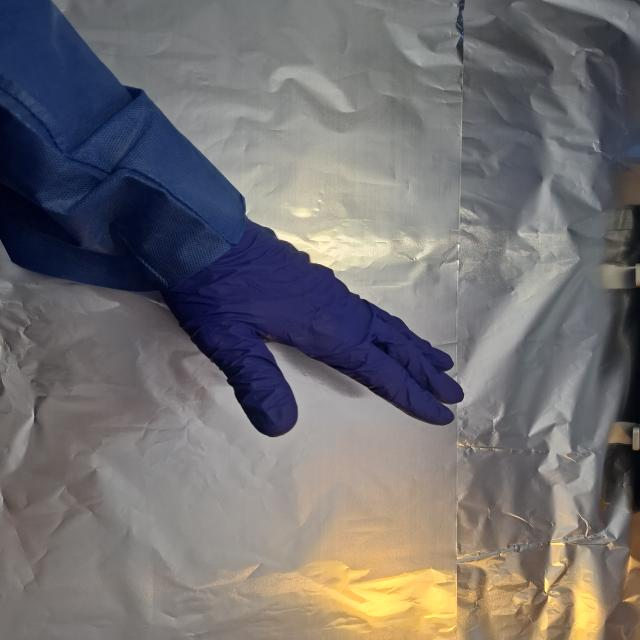glove_on: (160, 216, 468, 441)
